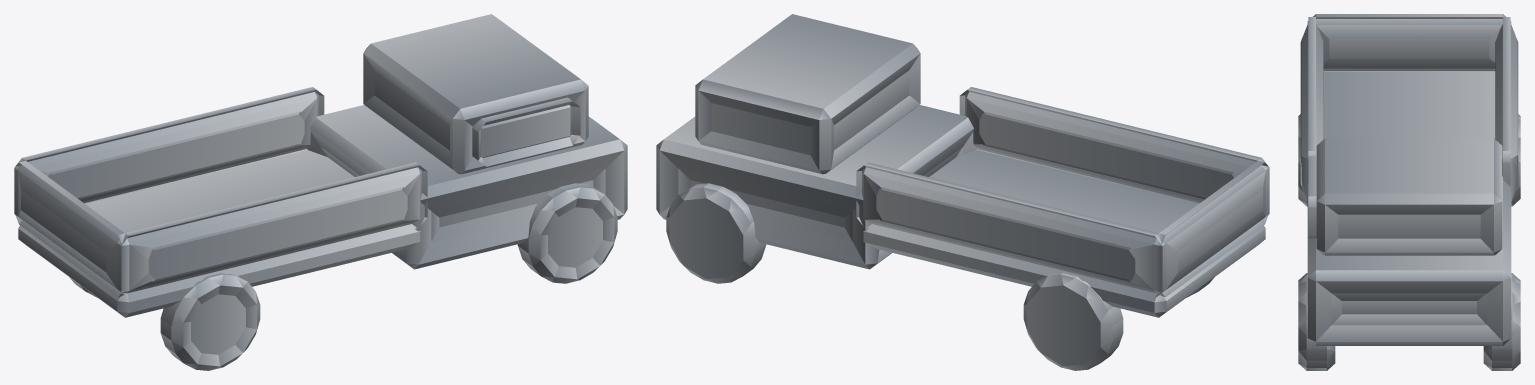
File: dt_pickup_truck.fbx
3 renders of one model, left to right at view 1: azimuth 30°, elevation 25°; view 2: azimuth 150°, elevation 25°; view 3: azimuth 270°, elevation 25°, orthographic. The views are drawn at different scales.
Parts seen in each view (by area): view 1: dt_pickup_truck; view 2: dt_pickup_truck; view 3: dt_pickup_truck.
Boxes of the visible parts, left/top/right/bottom form: dt_pickup_truck: left=14, top=14, right=627, bottom=370; dt_pickup_truck: left=656, top=14, right=1269, bottom=370; dt_pickup_truck: left=1298, top=14, right=1520, bottom=370.
Bounding box in the file's own units: 1600 × 568 × 635.
